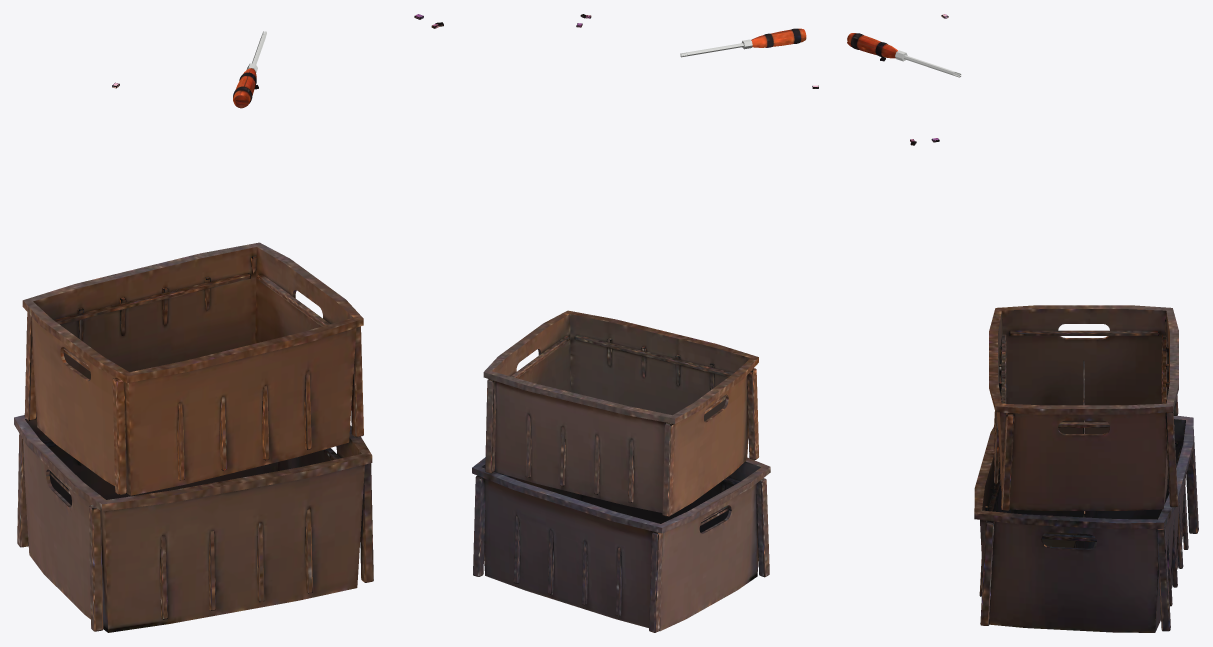
Rendered from desk_misc.glb.
3 views of the same model, side by side, from view 1: azimuth 30°, elevation 25°; view 2: azimuth 150°, elevation 25°; view 3: azimuth 270°, elevation 25° (orthographic). The views are drawn at different scales.
Visible parts, largest first — view 1: tote_2__mesh, tote_1__mesh, screwdriver__mesh; view 2: tote_2__mesh, tote_1__mesh, screwdriver__mesh; view 3: tote_2__mesh, tote_1__mesh, screwdriver__mesh.
Part boxes in pixels (x1,y1,x2,y2): tote_2__mesh: (22, 242, 363, 495); tote_1__mesh: (14, 415, 373, 632); screwdriver__mesh: (233, 31, 266, 108); tote_2__mesh: (483, 310, 758, 516); tote_1__mesh: (472, 457, 770, 632); screwdriver__mesh: (680, 28, 806, 57); tote_2__mesh: (989, 305, 1178, 510); tote_1__mesh: (974, 415, 1198, 632); screwdriver__mesh: (847, 33, 961, 77).
Size of the model in its own units: 0.4127 by 0.7568 by 0.4719.
Materials: 2 (2 with a texture image).
